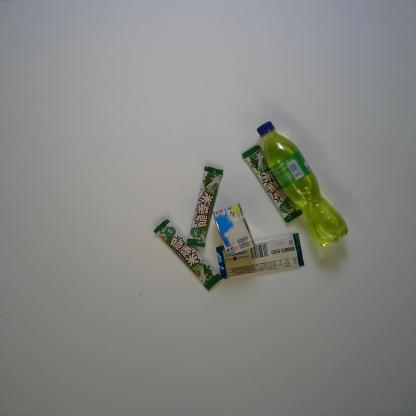Canned Food: (212, 203, 256, 256)
Chocolate: (152, 218, 222, 290), (242, 144, 303, 224), (215, 231, 306, 280), (184, 164, 224, 249)
Drink: (256, 120, 350, 248)
